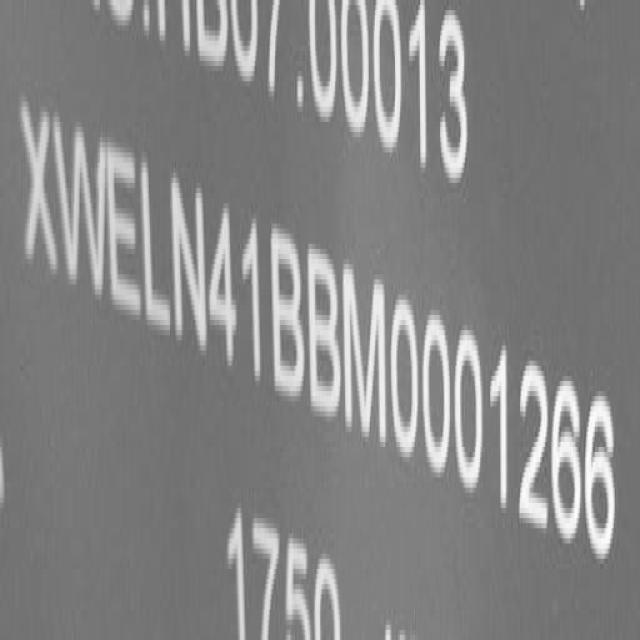0: (421, 302, 454, 484), (451, 320, 484, 502), (391, 287, 424, 468)
1: (487, 336, 512, 518), (239, 208, 263, 390)
2: (518, 359, 550, 538)
4: (207, 191, 238, 376)
6: (586, 390, 622, 568), (552, 373, 585, 552)
B: (305, 239, 343, 429), (269, 220, 306, 408)
E: (108, 134, 143, 331)
L: (140, 151, 174, 343)
M: (341, 260, 388, 458)
N: (171, 173, 206, 348)
W: (54, 107, 110, 310)
X: (17, 86, 58, 292)
